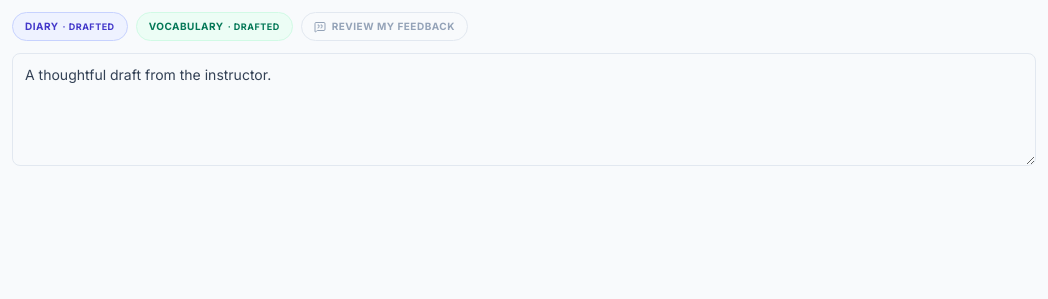
AI review prerequisite recovery › saves once, shows neutral progress, then reviews without changing the text
Later steps or results of the test are not shown.
Step 1. Click the button "Review my feedback" → (384, 26), box [301,12,468,41]
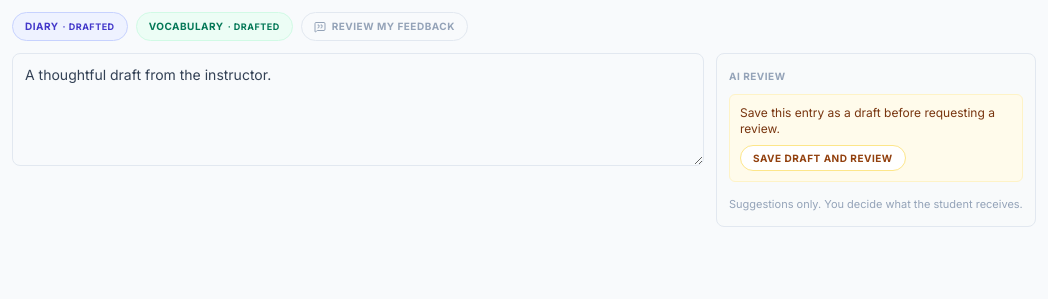
Check: the button "Save draft and review" is shown
Step 2. Click the button "Save draft and review" → (823, 158), box [740,145,906,171]
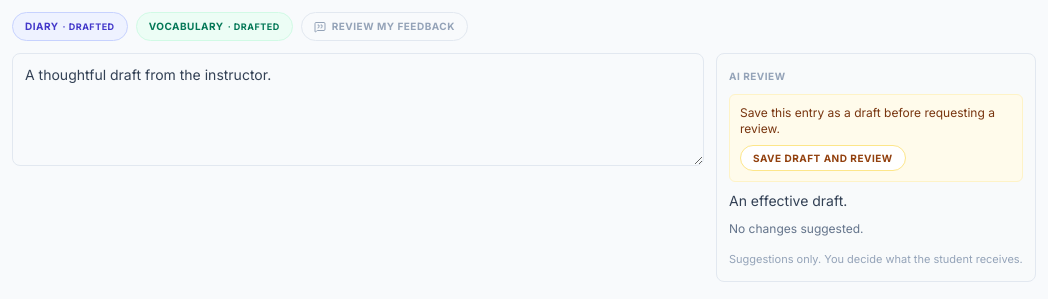
Check: the text box holds "A thoughtful draft from the instructor.", box [12,53,704,166]
Check: the text "An effective draft." is shown, box [729,192,847,209]
